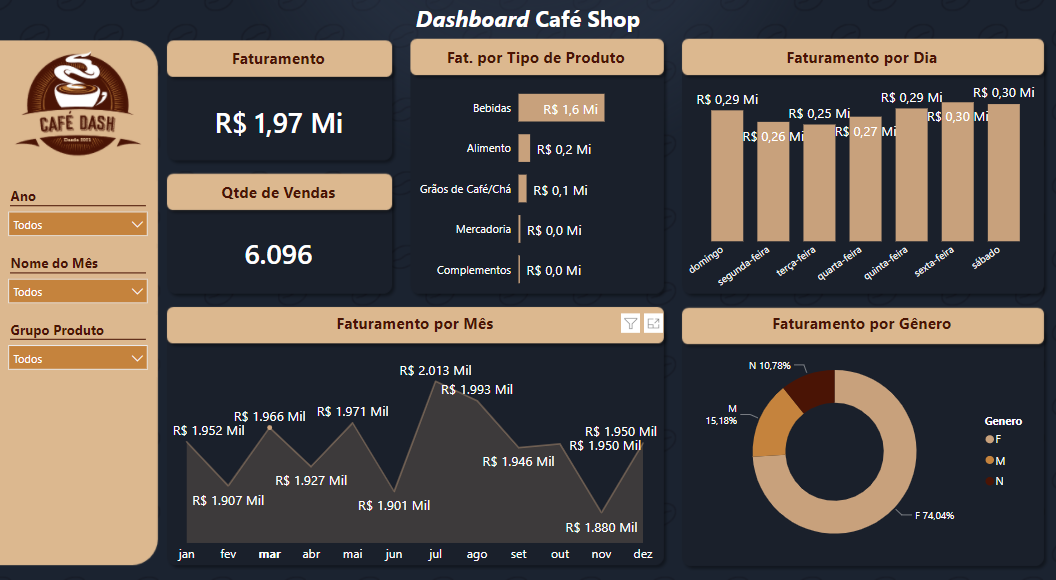

Layout of this report page (visuals, bound fields, positions):
{"tool":"powerbi","page":{"name":"Página 1","canvas":[1280,720],"ordinal":0},"visuals":[{"type":"card","title":"Faturamento","fields":{"Values":["Medidas.Faturamento"]},"box":[202.6,56.1,270.1,133],"z":0},{"type":"card","title":"Quantidade","fields":{"Values":["Medidas.Quantidade de Vendas"]},"box":[205.7,217.1,270.1,133],"z":1000},{"type":"clusteredBarChart","title":"Faturamento por Tipo de Produto","fields":{"Y":["Medidas.Faturamento"],"Category":["fDados.Grupo_Produto"]},"box":[502.9,56.1,300.3,294],"z":2000},{"type":"clusteredColumnChart","fields":{"Category":["dCalendario.Nome do Dia"],"Y":["Medidas.Faturamento"]},"box":[828.1,56.1,435.3,294],"z":3000},{"type":"areaChart","title":"Faturamento por Mês","fields":{"Category":["dCalendario.Mes Abrevido"],"Y":["Medidas.Faturamento"]},"box":[205.7,378.2,597.4,302.3],"z":4000},{"type":"donutChart","title":"Faturamento por Gênero","fields":{"Y":["Medidas.Faturamento"],"Category":["fDados.Genero"]},"box":[828.1,378.2,435.3,302.3],"z":5000},{"type":"slicer","fields":{"Values":["dCalendario.Ano"]},"box":[2.1,217.1,187,104.9],"z":6000},{"type":"slicer","fields":{"Values":["dCalendario.Mes Abrevido"]},"box":[2.1,296.1,187,82.1],"z":7000},{"type":"slicer","fields":{"Values":["fDados.Grupo_Produto"]},"box":[0,378.2,187,85.2],"z":8000},{"type":"textbox","box":[479,0,349.1,45.7],"z":9000}]}

Visuals, with their boxes in screenshot pixels (x1, y1, x2, y2), scaled from the page's 1280x720 canvas onto the 1056x580 screenshot:
"Faturamento" card: box(167, 45, 390, 152)
"Quantidade" card: box(170, 175, 393, 282)
"Faturamento por Tipo de Produto" clusteredBarChart: box(415, 45, 663, 282)
clusteredColumnChart - dCalendario.Nome do Dia x Medidas.Faturamento: box(683, 45, 1042, 282)
"Faturamento por Mês" areaChart: box(170, 305, 663, 548)
"Faturamento por Gênero" donutChart: box(683, 305, 1042, 548)
slicer - dCalendario.Ano: box(2, 175, 156, 259)
slicer - dCalendario.Mes Abrevido: box(2, 239, 156, 305)
slicer - fDados.Grupo_Produto: box(0, 305, 154, 373)
textbox: box(395, 0, 683, 37)
